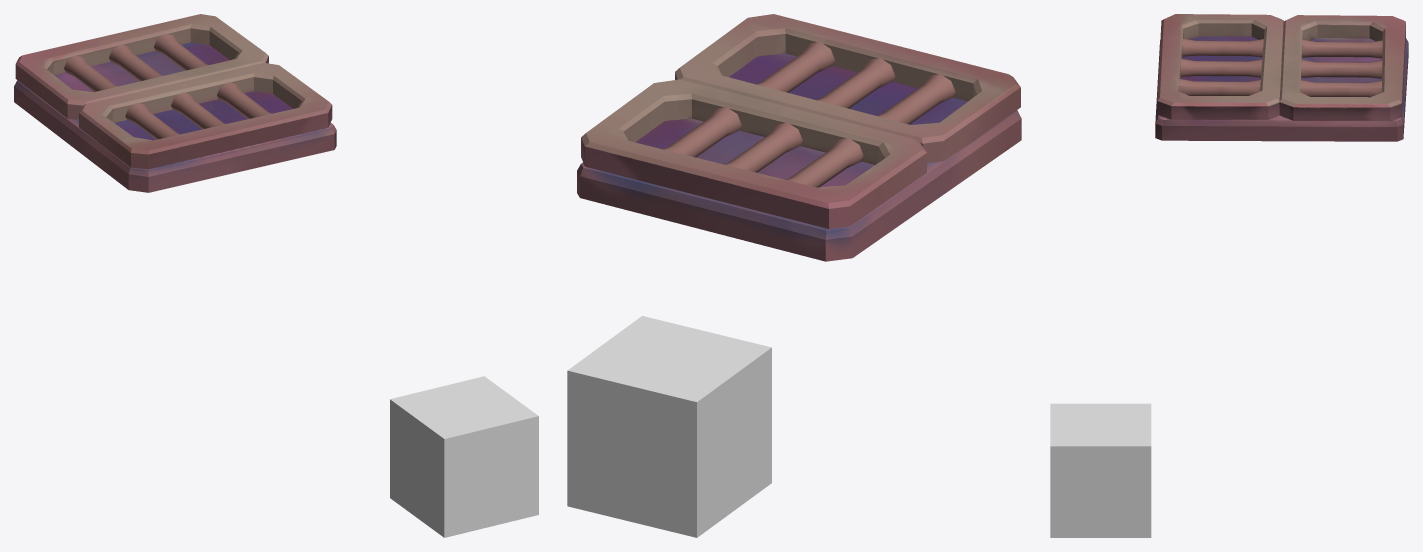
The model's file is home-floor004.fbx.
3 renders of one model, left to right at view 1: azimuth 30°, elevation 25°; view 2: azimuth 150°, elevation 25°; view 3: azimuth 270°, elevation 25°, orthographic. The views are drawn at different scales.
Parts seen in each view (by area): view 1: Cube.001, home-floor004; view 2: Cube.001, home-floor004; view 3: Cube.001, home-floor004.
Part boxes in pixels (box(x1,y1,x2,y2)): Cube.001: box(14, 14, 336, 192); home-floor004: box(390, 376, 538, 537); Cube.001: box(577, 14, 1021, 261); home-floor004: box(567, 316, 771, 537); Cube.001: box(1155, 14, 1408, 141); home-floor004: box(1050, 403, 1151, 537).
Bounding box in the file's own units: 426 × 474 × 415.
